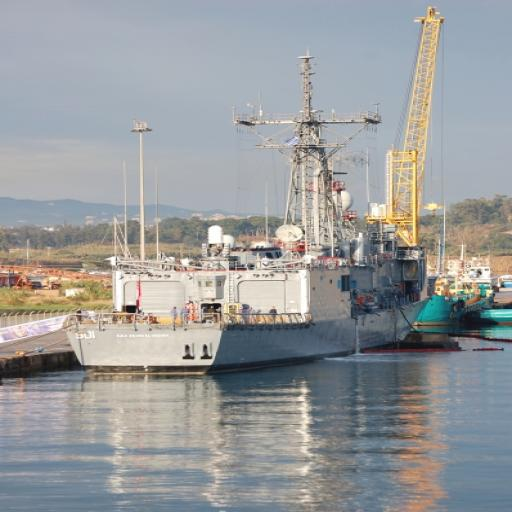Fragata: (54, 33, 437, 382)
